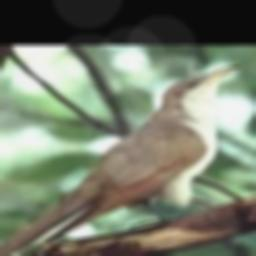Cuckoo: (0, 66, 240, 256)
